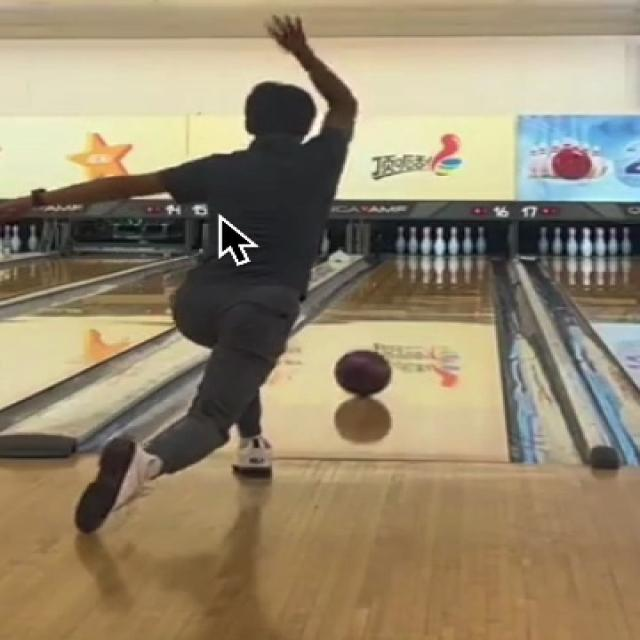alley: (261, 255, 510, 463)
balls: (332, 351, 395, 400)
bottle: (396, 225, 485, 256)
